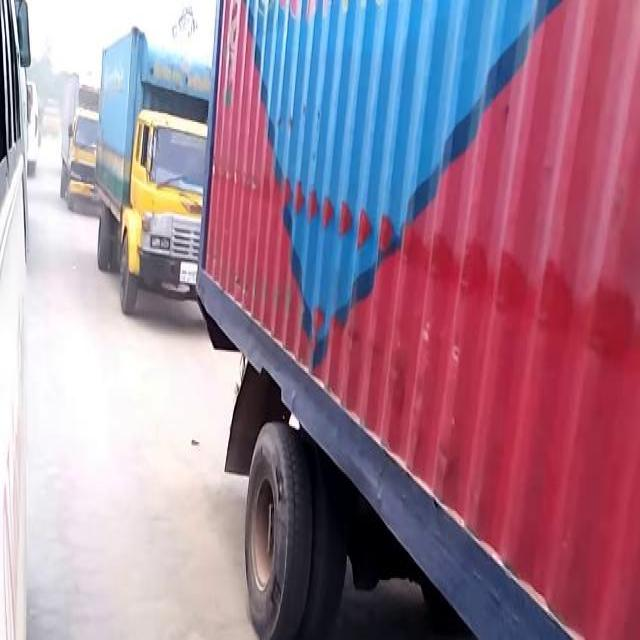bus: (0, 0, 35, 635), (24, 76, 38, 170)
truck: (195, 0, 637, 629), (92, 25, 208, 327), (56, 72, 100, 213)
